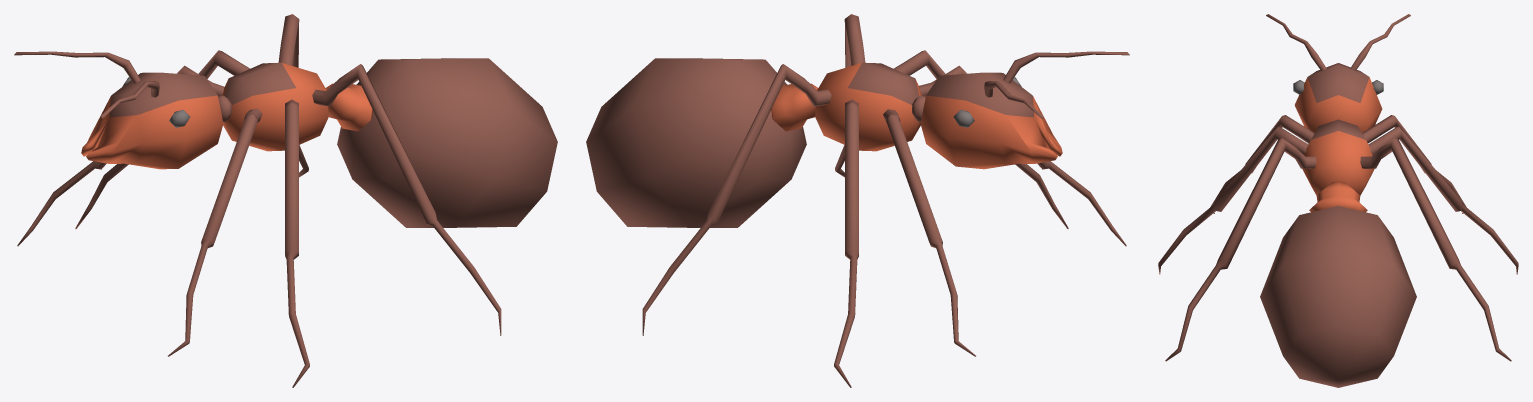
3 renders of one model, left to right at view 1: azimuth 30°, elevation 25°; view 2: azimuth 150°, elevation 25°; view 3: azimuth 270°, elevation 25°, orthographic. The views are drawn at different scales.
Visible parts, largest first — view 1: Ant; view 2: Ant; view 3: Ant.
Boxes of the visible parts, box(x1,y1,x2,y2) form: Ant: box(14, 14, 557, 387); Ant: box(586, 14, 1129, 387); Ant: box(1158, 14, 1518, 387).
Size of the model in its own units: 1.96 by 1 by 1.53.
